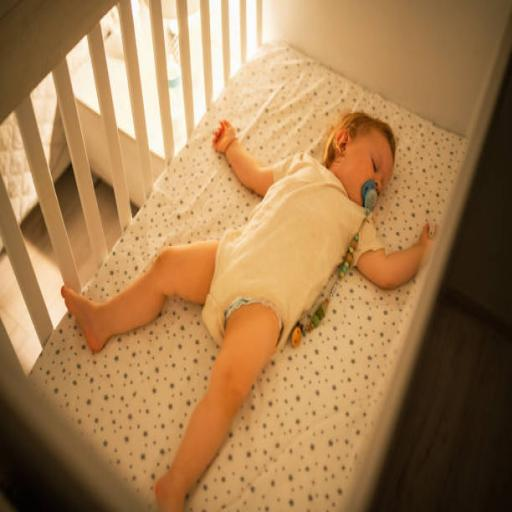baby: (62, 113, 431, 510)
crib: (0, 0, 511, 509)
